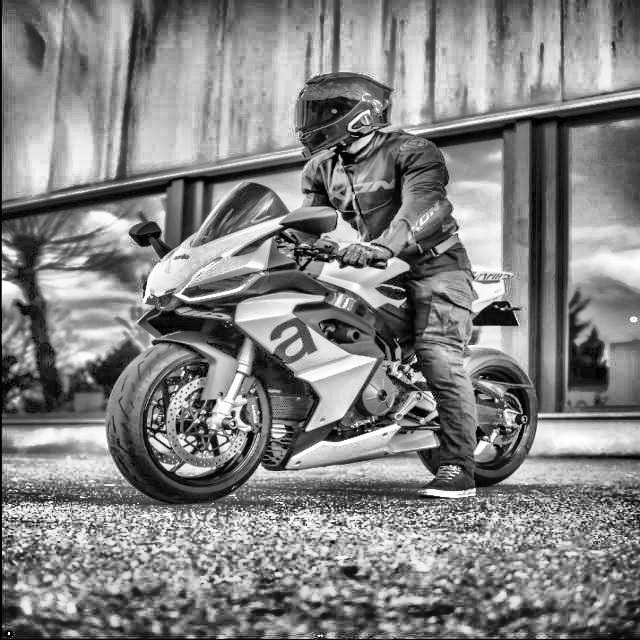Helmet: (291, 68, 398, 160)
